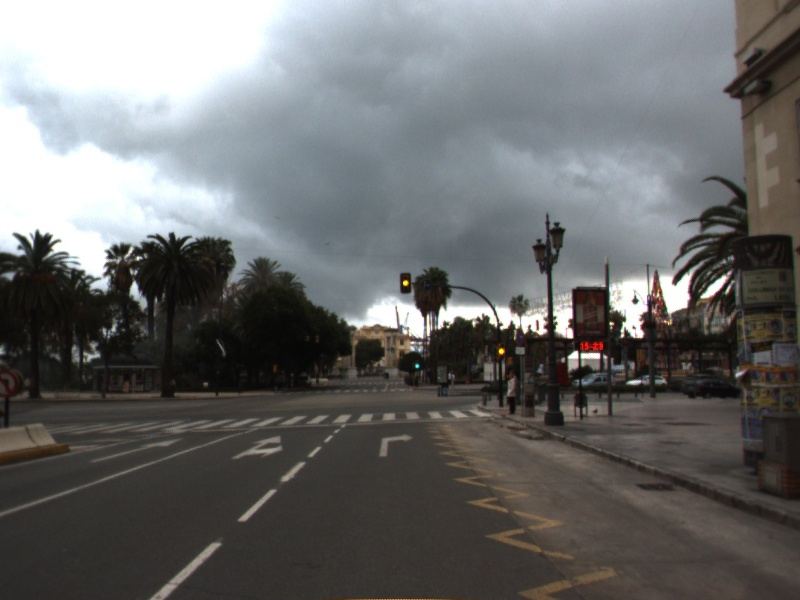RIGHT: (377, 431, 416, 459)
STRAIGHT: (86, 436, 186, 465)
STRAIGHT_RIGHT: (228, 433, 285, 461)
